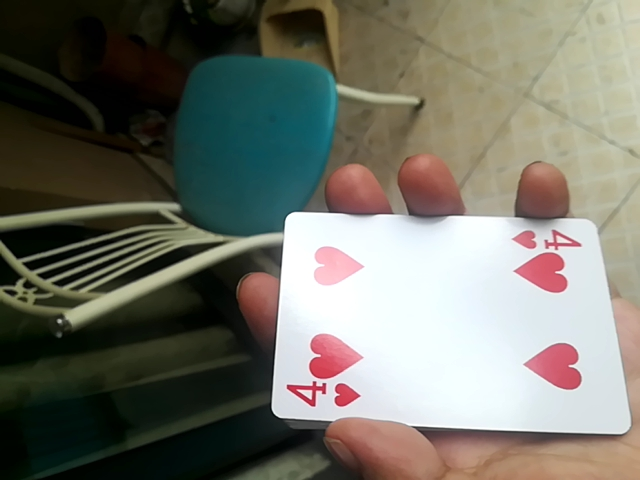hx 4: (269, 209, 639, 428)
